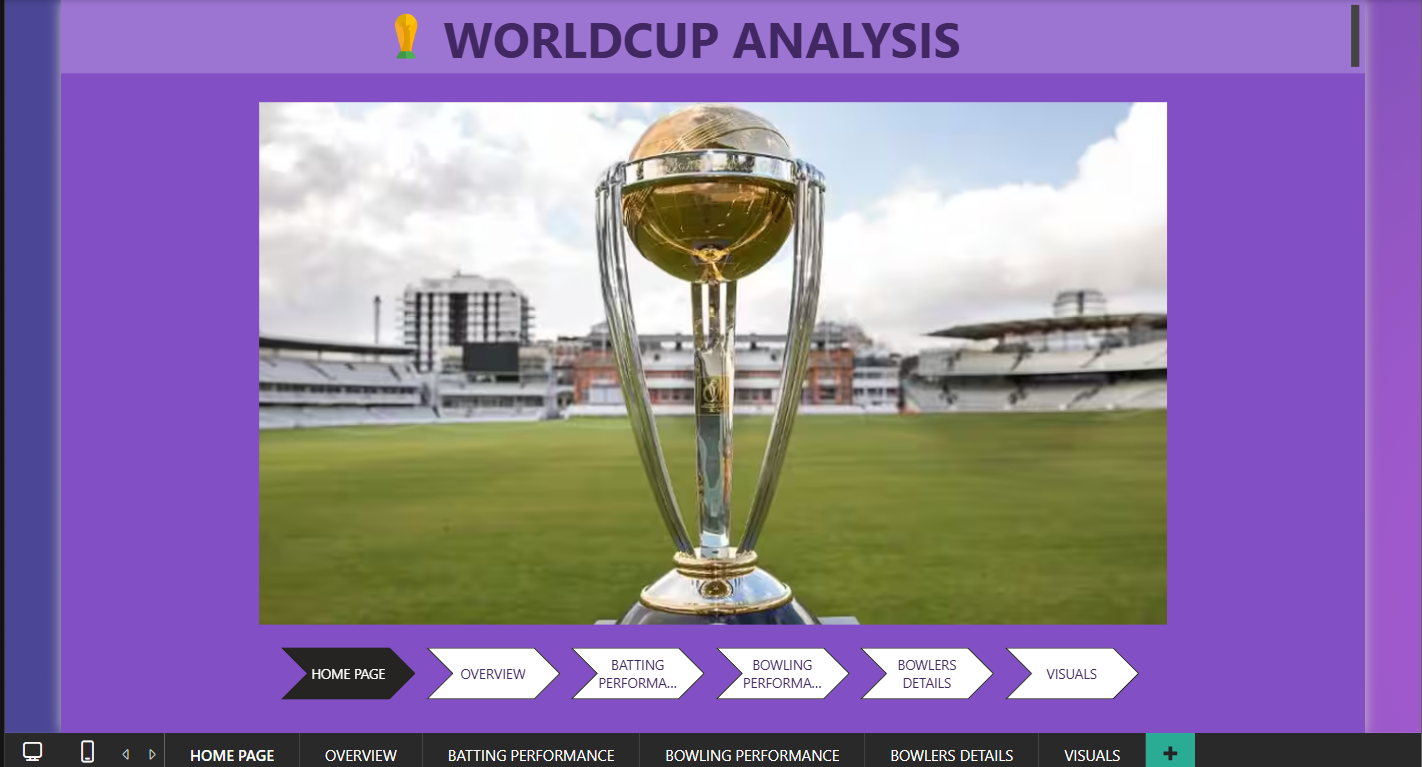

The page's visual inventory and layout, read from the dashboard file:
{"tool":"powerbi","page":{"name":"HOME PAGE ","canvas":[1280,720],"ordinal":0},"visuals":[{"type":"textbox","box":[0,0,1279.8,72.4],"z":0},{"type":"pageNavigator","box":[216.2,635,847.5,51.2],"z":1000},{"type":"image","box":[308,13.5,61.4,44.2],"z":2000}]}

Visuals, with their boxes on the page's 1280x720 design canvas (x1, y1, x2, y2). These are canvas units, not pixel positions in the 1422x767 screenshot, which may show the page scaled, cropped or inside an application window:
textbox: x1=0, y1=0, x2=1280, y2=72
pageNavigator: x1=216, y1=635, x2=1064, y2=686
image: x1=308, y1=14, x2=369, y2=58
